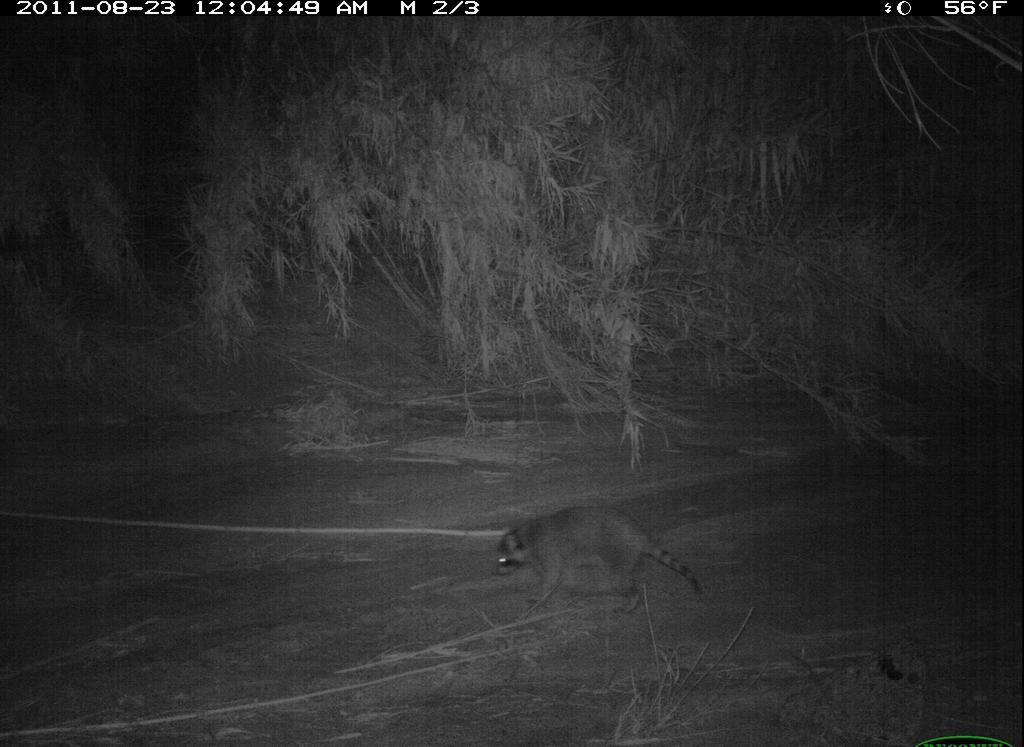raccoon: (489, 495, 711, 614)
